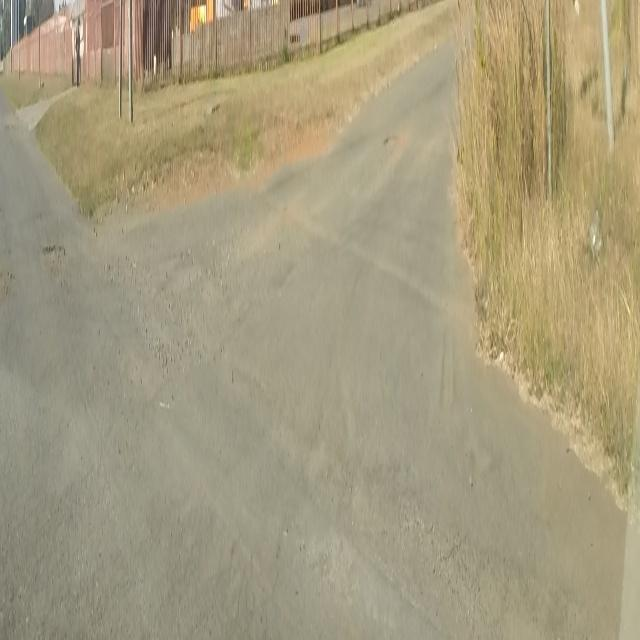pothole: (40, 240, 66, 264), (0, 260, 14, 302), (380, 128, 396, 148)
